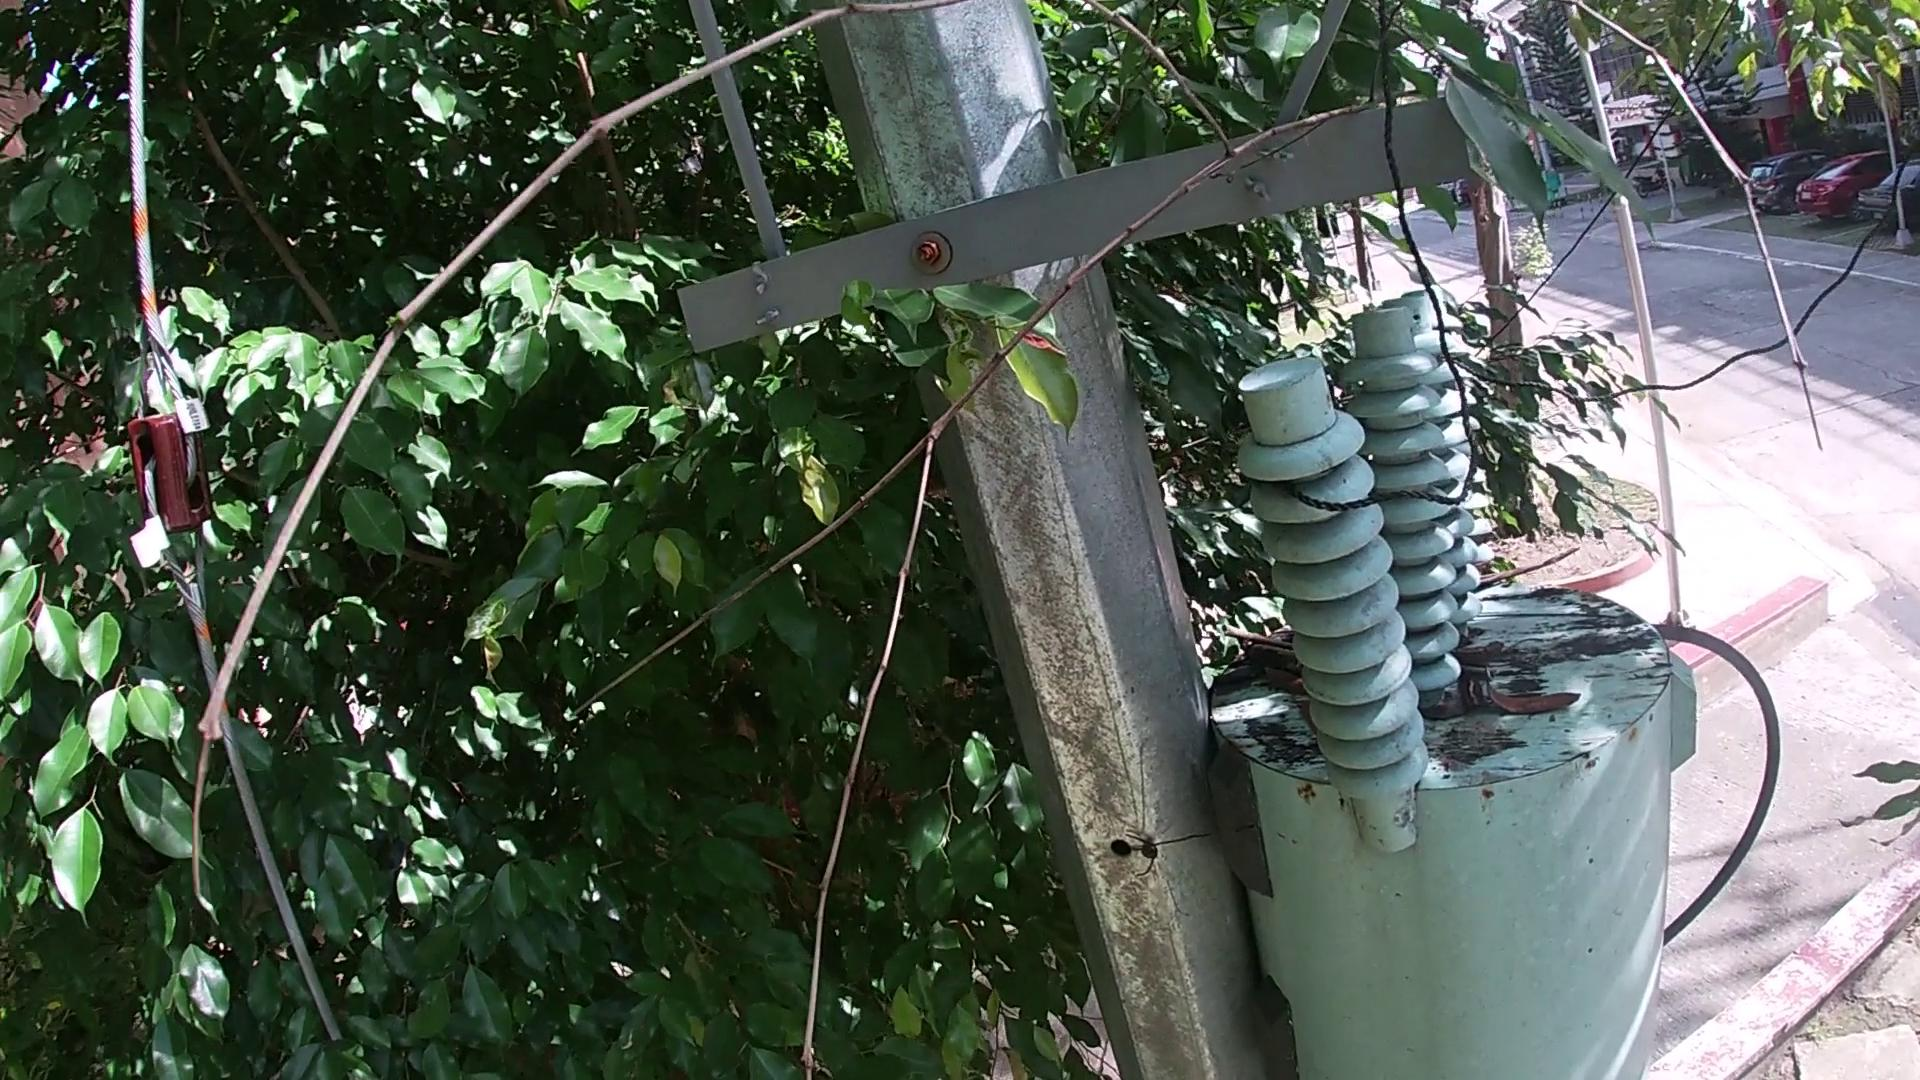leaf: (1481, 669, 1585, 720), (1262, 665, 1308, 696)
tree branch: (182, 1, 1838, 1077), (1480, 546, 1581, 591), (1220, 626, 1302, 671)
